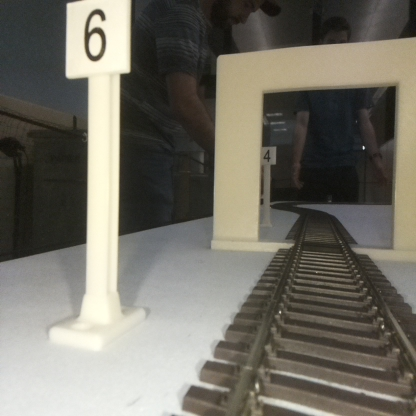white-info-4: (260, 145, 276, 226)
white-info-6: (65, 0, 130, 337)
